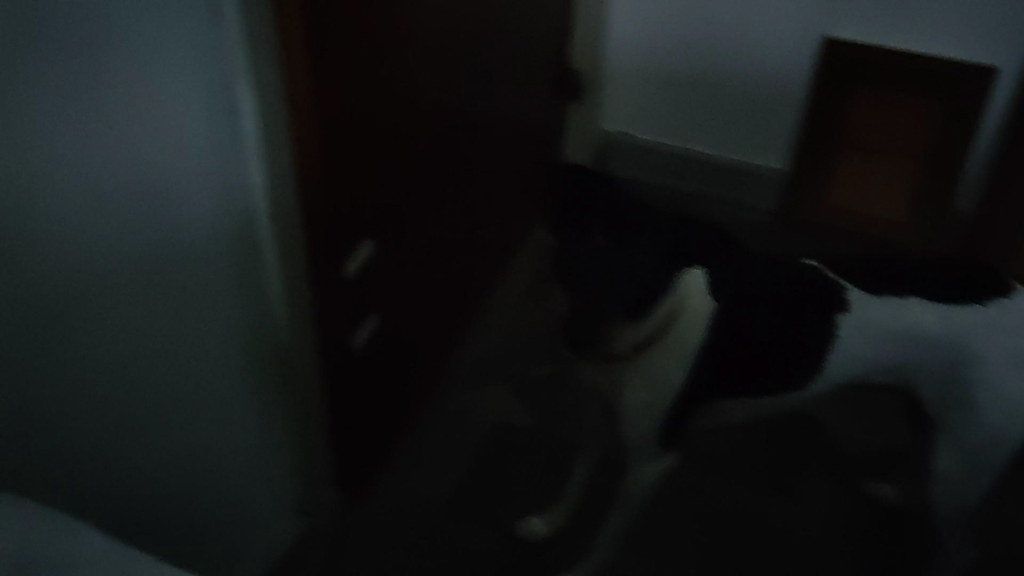Dog: (501, 125, 1024, 576)
